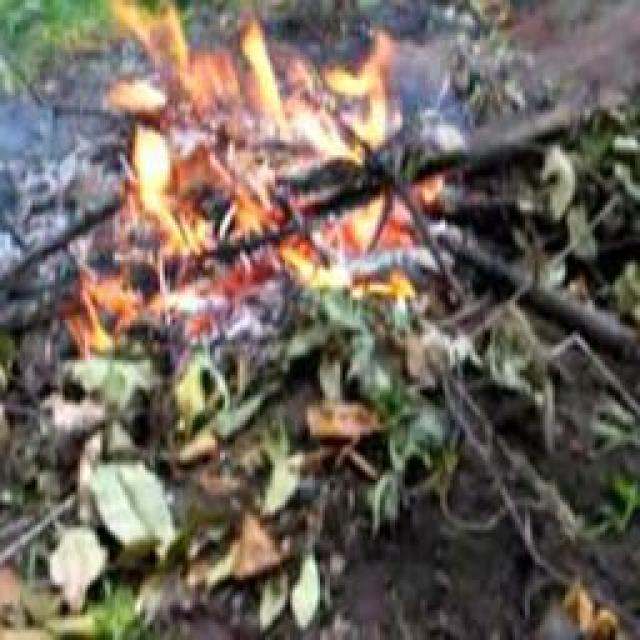Fire: (80, 12, 410, 306)
